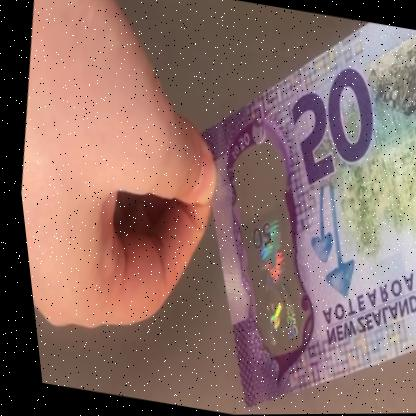50B: (210, 153, 322, 358)
